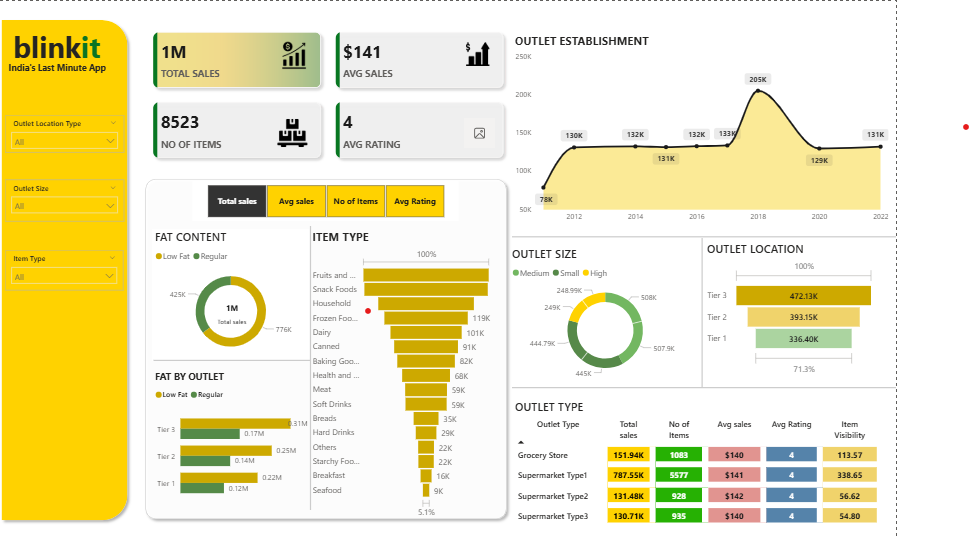

What the dashboard file says about the page in this screenshot:
{"tool":"powerbi","page":{"name":"Page 1","canvas":[1500,900],"ordinal":0},"visuals":[{"type":"shape","box":[0,22,228,852],"z":0},{"type":"textbox","box":[19.4,37.1,162.6,77.8],"z":1000},{"type":"textbox","box":[5.3,95.4,194.4,37.1],"z":2000},{"type":"cardVisual","fields":{"Data":["BlinkIT Grocery Data (2).Total sales","BlinkIT Grocery Data (2).Avg sales","BlinkIT Grocery Data (2).No of Items","BlinkIT Grocery Data (2).Avg Rating"]},"box":[232,22,642,268],"z":3000},{"type":"image","box":[462,68,68,46],"z":4000},{"type":"image","box":[772,68,60,42],"z":5000},{"type":"image","box":[466,196,58,50],"z":6000},{"type":"image","box":[780,196,52,50],"z":7000},{"type":"shape","box":[240,288.3,620,585],"z":8000},{"type":"donutChart","title":"FAT CONTENT","fields":{"Y":["BlinkIT Grocery Data (2).Total sales"],"Category":["BlinkIT Grocery Data (2).Item Fat Content"]},"box":[260,380,262,220],"z":9000},{"type":"card","fields":{"Values":["BlinkIT Grocery Data (2).Total sales"]},"box":[346,490,96,62],"z":10000},{"type":"clusteredBarChart","title":"FAT BY OUTLET","fields":{"Y":["BlinkIT Grocery Data (2).Total sales"],"Category":["BlinkIT Grocery Data (2).Outlet Location Type"],"Series":["BlinkIT Grocery Data (2).Item Fat Content"]},"box":[260,614,264,230],"z":11000},{"type":"shape","box":[262,586,262,28],"z":12000},{"type":"shape","box":[505,375,38.3,473.3],"z":13000},{"type":"slicer","fields":{"Values":["Metrics 2.Metrics"]},"box":[328.3,300,443.3,66.7],"z":14000},{"type":"funnel","title":" ITEM TYPE","fields":{"Y":["BlinkIT Grocery Data (2).Total sales"],"Category":["BlinkIT Grocery Data (2).Item Type"]},"box":[523.3,380,308.3,486.7],"z":15000},{"type":"lineChart","title":" OUTLET ESTABLISHMENT ","fields":{"Category":["BlinkIT Grocery Data (2).Outlet Establishment Year"],"Y":["BlinkIT Grocery Data (2).Total sales"]},"box":[860,52,632,324],"z":16000},{"type":"donutChart","title":"OUTLET SIZE","fields":{"Y":["BlinkIT Grocery Data (2).Total sales","Sum(BlinkIT Grocery Data (2).Sales)"],"Category":["BlinkIT Grocery Data (2).Outlet Size"]},"box":[856,408,320,228],"z":17000},{"type":"shape","box":[860,380,640,26],"z":18000},{"type":"shape","box":[1156.2,395,38.8,250],"z":19000},{"type":"funnel","title":" OUTLET LOCATION ","fields":{"Y":["Sum(BlinkIT Grocery Data (2).Sales)"],"Category":["BlinkIT Grocery Data (2).Outlet Location Type"]},"box":[1180,400,288,228],"z":20000},{"type":"shape","box":[860,627.5,640,33.8],"z":21000},{"type":"pivotTable","title":"OUTLET TYPE","fields":{"Rows":["BlinkIT Grocery Data (2).Outlet Type"],"Values":["BlinkIT Grocery Data (2).Total sales","BlinkIT Grocery Data (2).No of Items","BlinkIT Grocery Data (2).Avg sales","BlinkIT Grocery Data (2).Avg Rating","Sum(BlinkIT Grocery Data (2).Item Visibility)"]},"box":[860,661.2,617.5,222.5],"z":22000},{"type":"slicer","fields":{"Values":["BlinkIT Grocery Data (2).Outlet Location Type"]},"box":[13.8,190,198.8,62.5],"z":23000},{"type":"slicer","fields":{"Values":["BlinkIT Grocery Data (2).Outlet Size"]},"box":[14.3,298.6,198.6,70],"z":24000},{"type":"slicer","fields":{"Values":["BlinkIT Grocery Data (2).Item Type"]},"box":[14.3,415.7,197.1,67.1],"z":25000}]}

Visuals, with their boxes on the page's 1500x900 design canvas (x1, y1, x2, y2). These are canvas units, not pixel positions in the 970x537 screenshot, which may show the page scaled, cropped or inside an application window:
shape: (0,22,228,874)
textbox: (19,37,182,115)
textbox: (5,95,200,132)
cardVisual - BlinkIT Grocery Data (2).Total sales x BlinkIT Grocery Data (2).Avg sales: (232,22,874,290)
image: (462,68,530,114)
image: (772,68,832,110)
image: (466,196,524,246)
image: (780,196,832,246)
shape: (240,288,860,873)
"FAT CONTENT" donutChart: (260,380,522,600)
card - BlinkIT Grocery Data (2).Total sales: (346,490,442,552)
"FAT BY OUTLET" clusteredBarChart: (260,614,524,844)
shape: (262,586,524,614)
shape: (505,375,543,848)
slicer - Metrics 2.Metrics: (328,300,772,367)
" ITEM TYPE" funnel: (523,380,832,867)
" OUTLET ESTABLISHMENT " lineChart: (860,52,1492,376)
"OUTLET SIZE" donutChart: (856,408,1176,636)
shape: (860,380,1500,406)
shape: (1156,395,1195,645)
" OUTLET LOCATION " funnel: (1180,400,1468,628)
shape: (860,628,1500,661)
"OUTLET TYPE" pivotTable: (860,661,1478,884)
slicer - BlinkIT Grocery Data (2).Outlet Location Type: (14,190,213,252)
slicer - BlinkIT Grocery Data (2).Outlet Size: (14,299,213,369)
slicer - BlinkIT Grocery Data (2).Item Type: (14,416,211,483)
